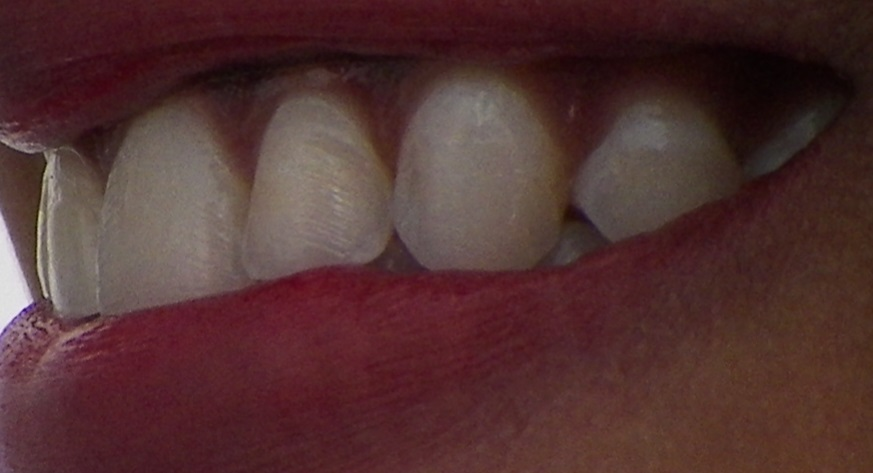boca: (41, 64, 814, 337)
